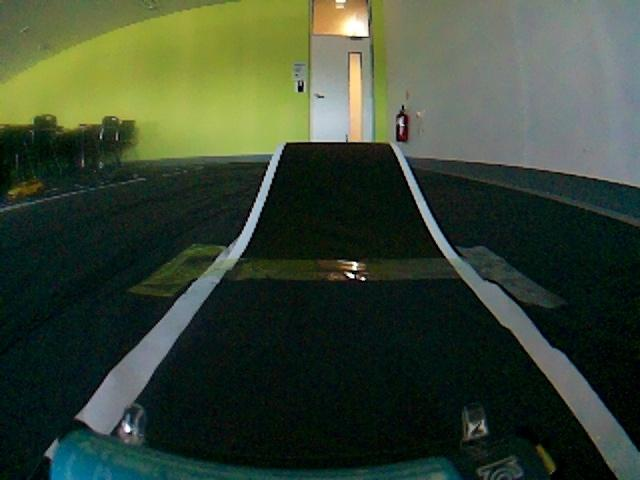go: (71, 260, 617, 480)
hill_up: (215, 138, 459, 256)
